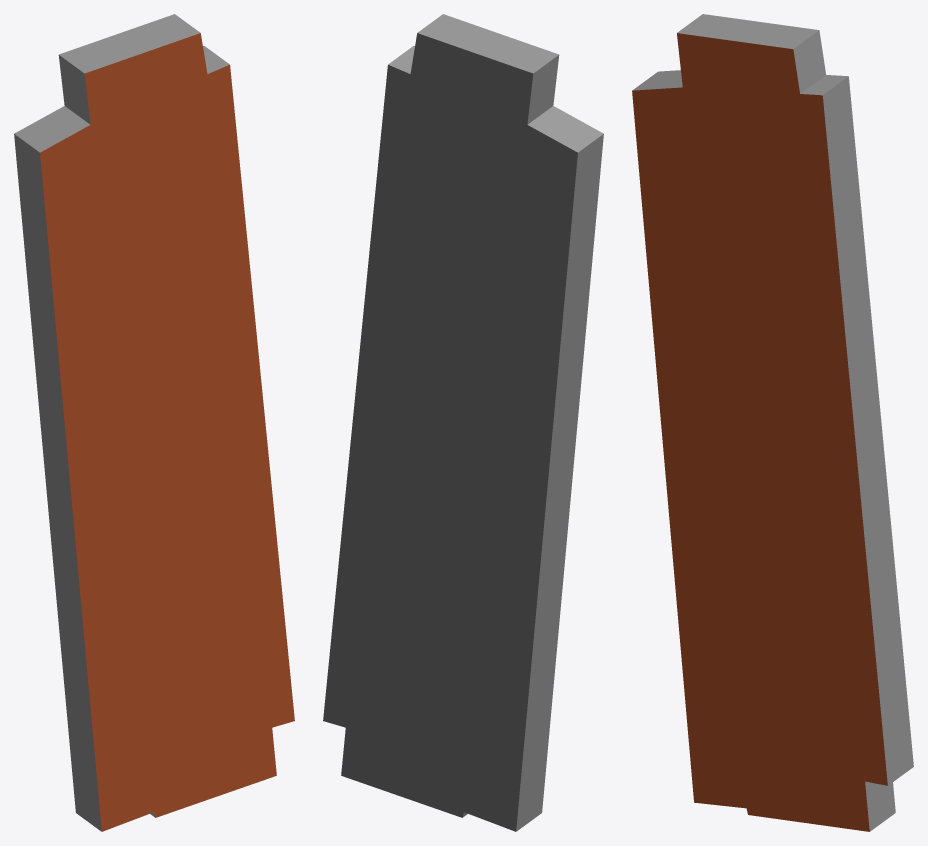
File: construction_6132_assumed_A_Casa_h6m.obj
The picture shows the model from 3 angles, left to right: view 1: azimuth 30°, elevation 25°; view 2: azimuth 150°, elevation 25°; view 3: azimuth 330°, elevation 25°; orthographic projection.
Visible parts, largest first — view 1: construction_6132_assumed_A_Casa; view 2: construction_6132_assumed_A_Casa; view 3: construction_6132_assumed_A_Casa.
Part boxes in pixels (bbox=[...]): construction_6132_assumed_A_Casa: bbox=[14, 14, 294, 831]; construction_6132_assumed_A_Casa: bbox=[323, 14, 603, 831]; construction_6132_assumed_A_Casa: bbox=[632, 14, 913, 831].
Bounding box in the file's own units: 34.01 × 98.78 × 6.
